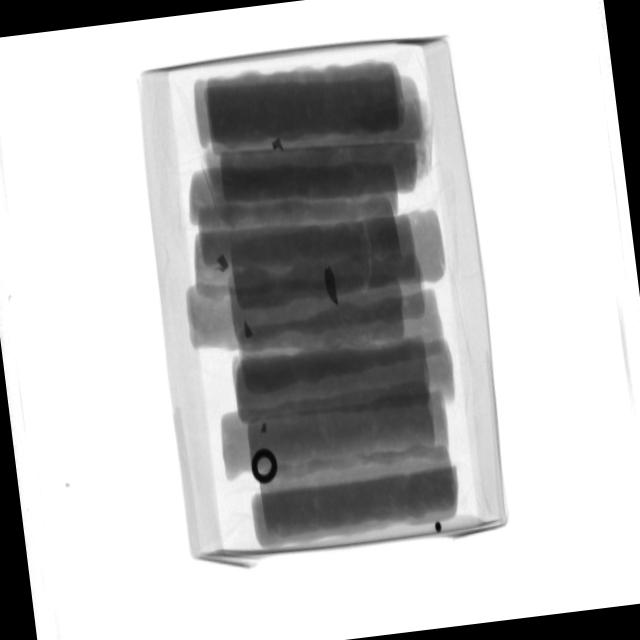ym: (251, 446, 281, 487), (322, 267, 340, 307), (271, 135, 284, 151), (216, 255, 228, 272), (244, 322, 254, 341), (434, 523, 443, 535), (261, 423, 269, 433)
